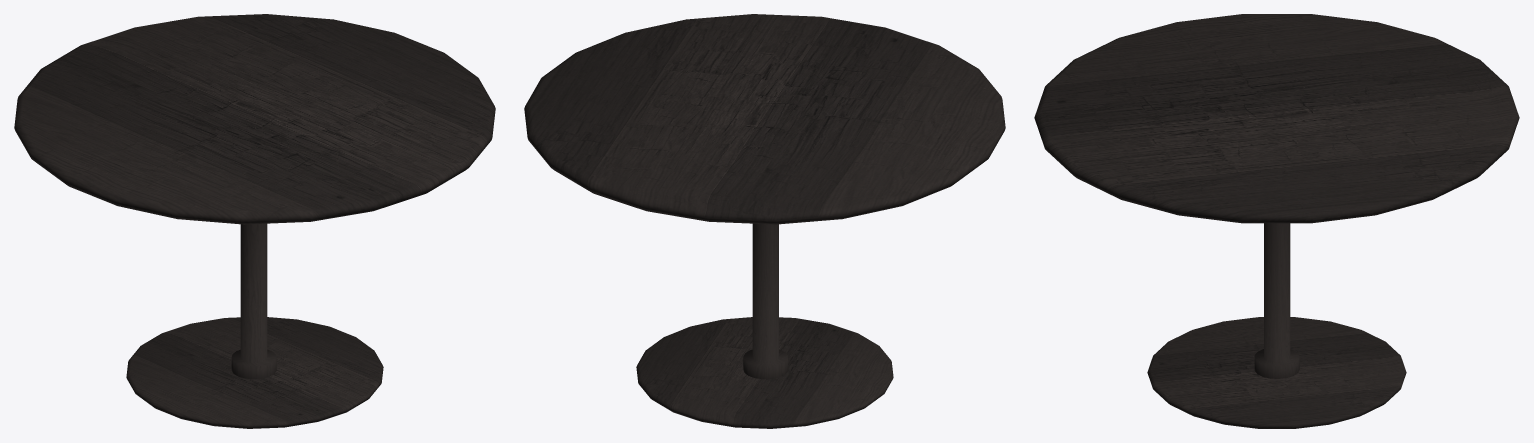
File: FPH_RoundTable.fbx
The picture shows the model from 3 angles, left to right: view 1: azimuth 30°, elevation 25°; view 2: azimuth 150°, elevation 25°; view 3: azimuth 270°, elevation 25°; orthographic projection.
Parts seen in each view (by area): view 1: FPH_RoundTable; view 2: FPH_RoundTable; view 3: FPH_RoundTable.
Boxes of the visible parts, x1=… form: FPH_RoundTable: x1=14, y1=14, x2=495, y2=428; FPH_RoundTable: x1=524, y1=14, x2=1005, y2=428; FPH_RoundTable: x1=1034, y1=14, x2=1519, y2=428.
Bounding box in the file's own units: 7.22 × 4.36 × 7.29.
1 material, 1 textured.
